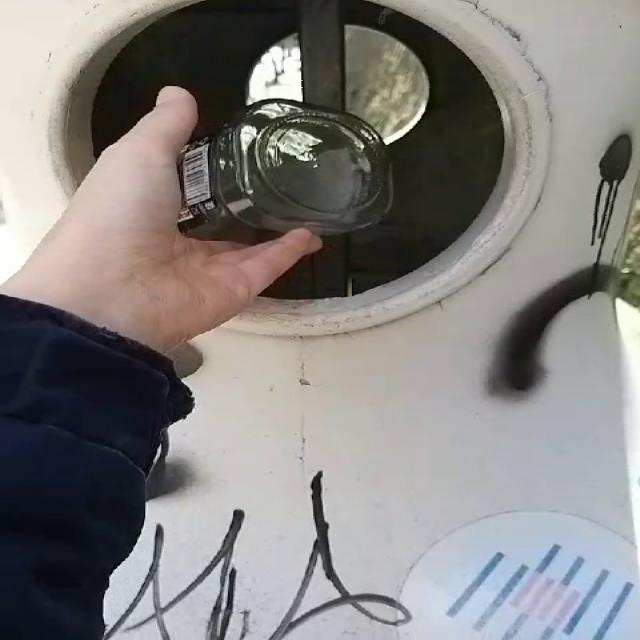glass: (177, 99, 393, 240)
